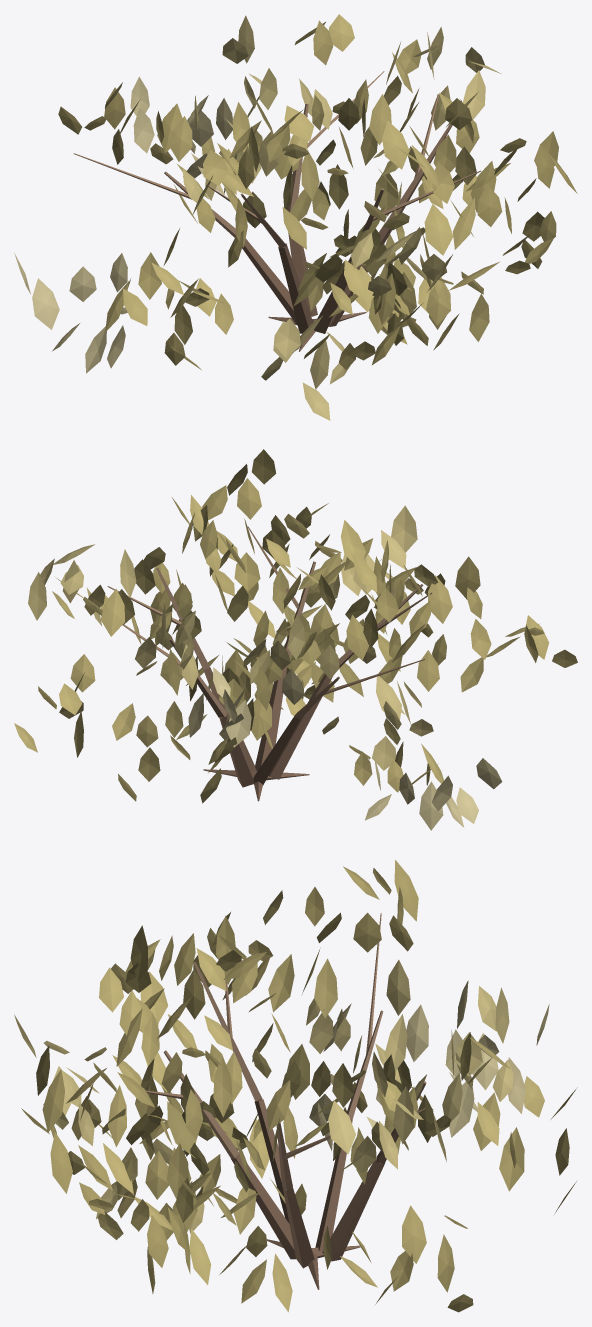
File: bush_3d_01_yellow.glb
3 views of the same model, one above another, from view 1: azimuth 30°, elevation 25°; view 2: azimuth 150°, elevation 25°; view 3: azimuth 270°, elevation 25° (orthographic). The views are drawn at different scales.
Visible parts, largest first — view 1: bush_3d_01_yellow_foliage, bush_3d_01_yellow_wood; view 2: bush_3d_01_yellow_foliage, bush_3d_01_yellow_wood; view 3: bush_3d_01_yellow_foliage, bush_3d_01_yellow_wood.
Part boxes in pixels (box(x1,y1,x2,y2)): bush_3d_01_yellow_foliage: box(14, 14, 577, 420); bush_3d_01_yellow_wood: box(73, 71, 481, 351); bush_3d_01_yellow_foliage: box(14, 449, 577, 830); bush_3d_01_yellow_wood: box(100, 526, 432, 801); bush_3d_01_yellow_foliage: box(14, 860, 577, 1312); bush_3d_01_yellow_wood: box(146, 913, 426, 1289).
Bounding box in the file's own units: 2.2 × 1.25 × 2.
